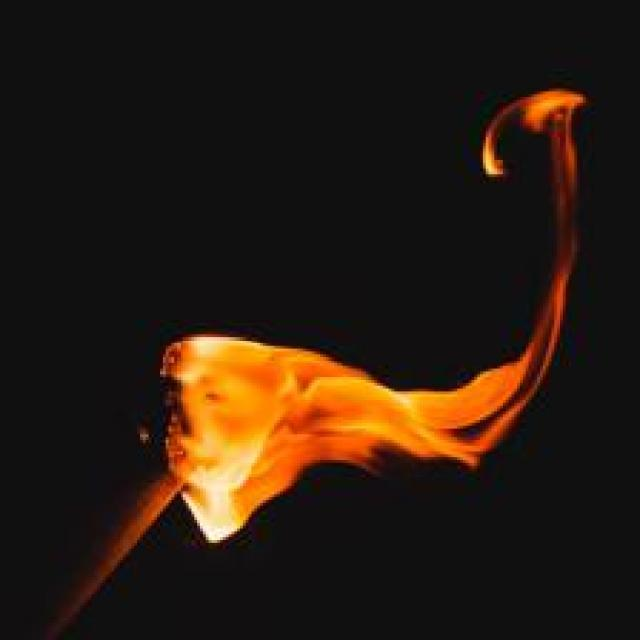Fire: (164, 80, 587, 545)
